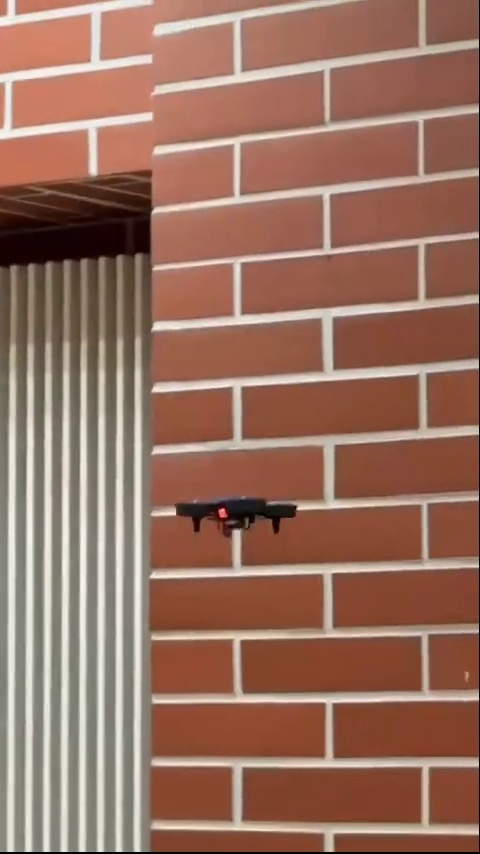drone: (164, 492, 306, 539)
